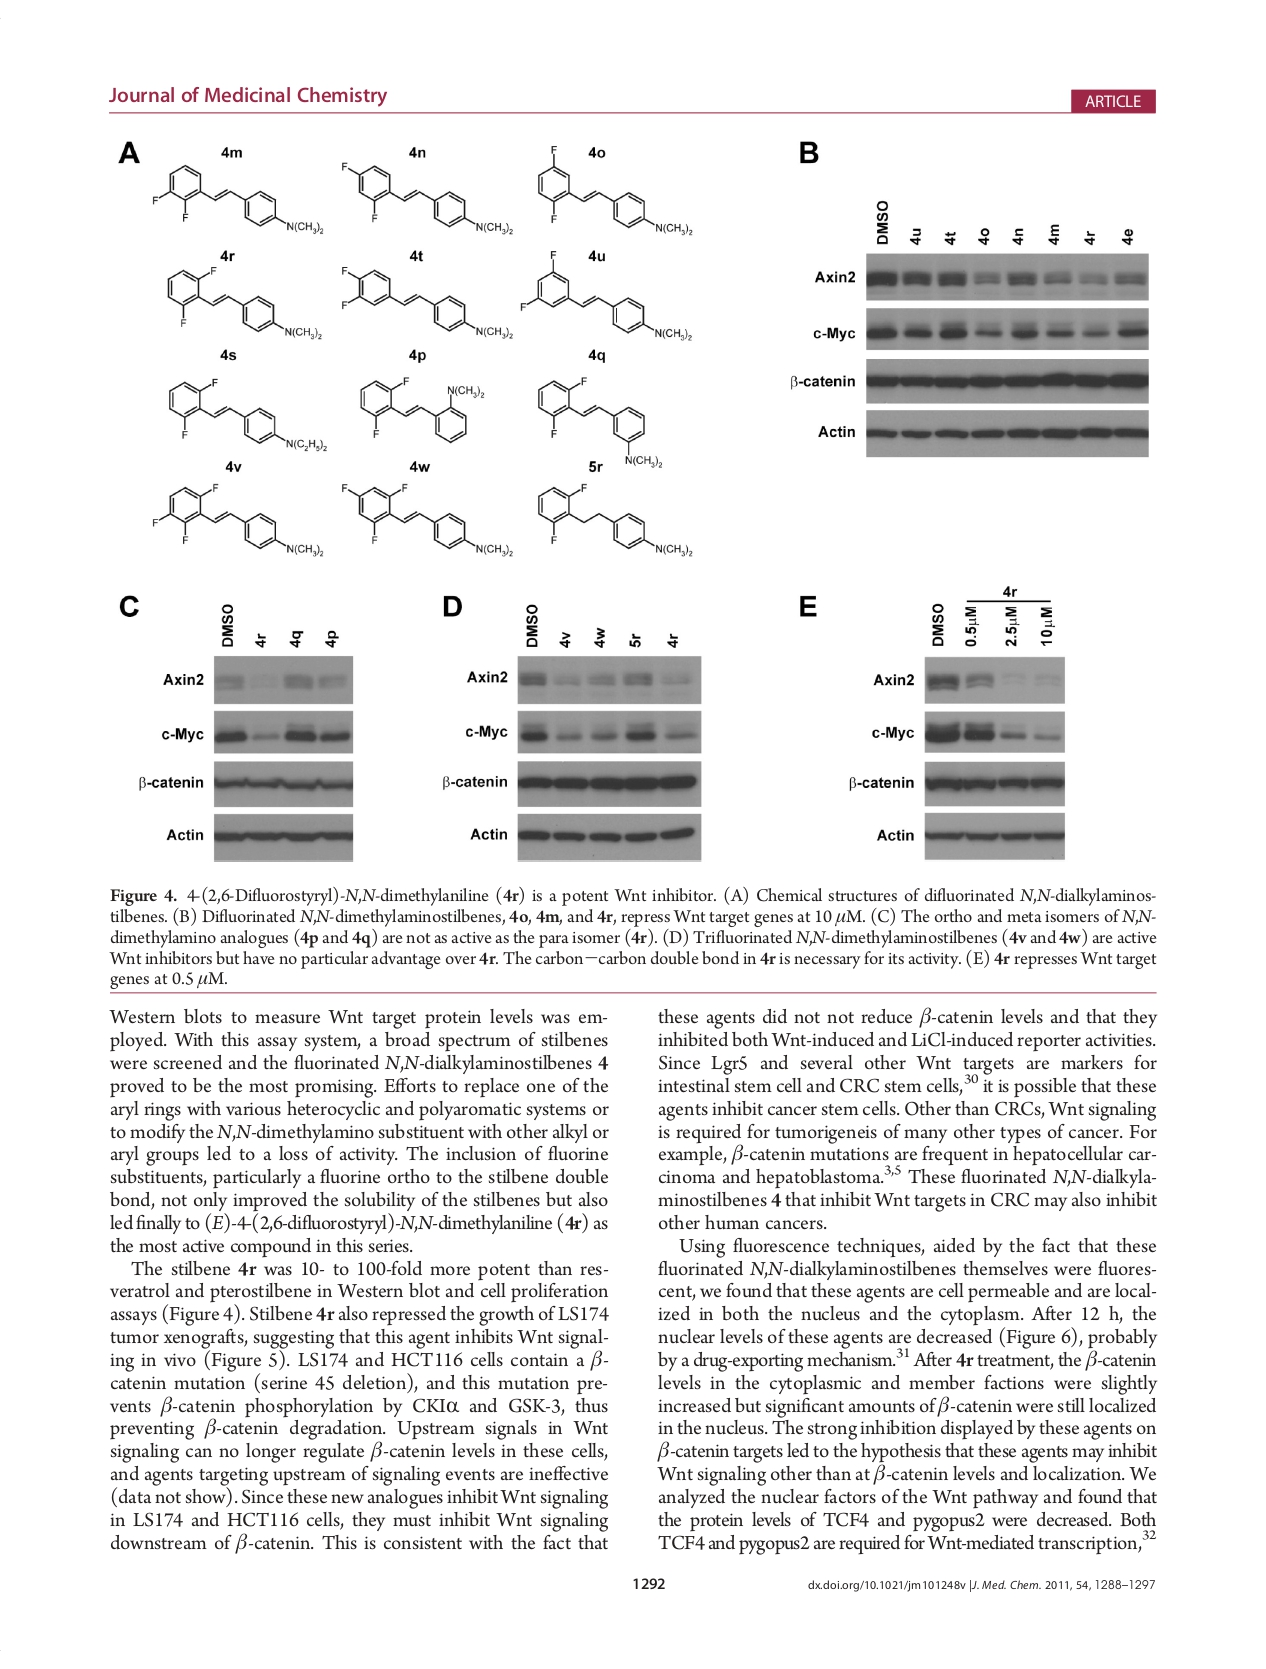exist_molecular: (519, 245, 697, 340), (335, 475, 517, 559), (148, 479, 328, 561), (536, 142, 696, 235), (336, 262, 515, 344), (336, 157, 517, 238), (148, 161, 328, 235), (166, 374, 328, 453), (535, 479, 696, 559), (164, 265, 326, 343), (535, 372, 665, 468), (356, 374, 485, 443)
